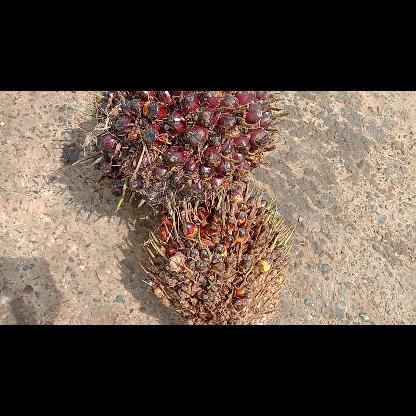Kurang masak: (72, 90, 288, 212)
TBS abnormal: (139, 180, 295, 324)
